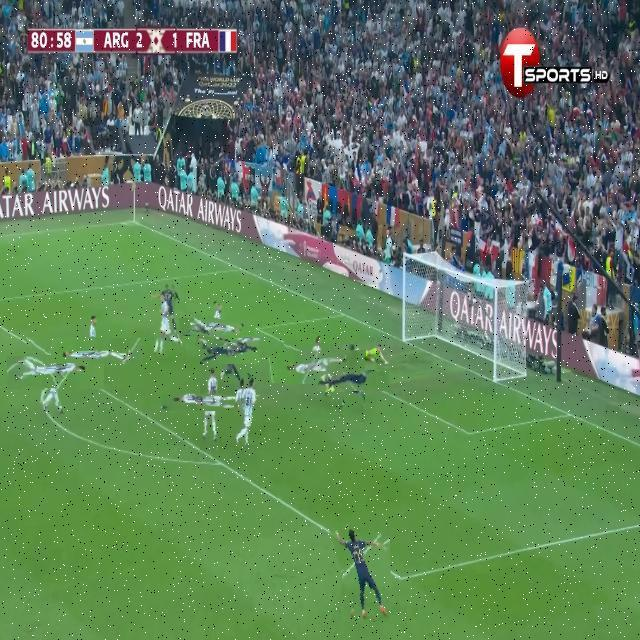goalkeeper: (330, 357, 378, 405)
player: (335, 520, 396, 624), (22, 339, 90, 407), (285, 334, 352, 400), (66, 320, 127, 382), (230, 375, 265, 468), (181, 374, 238, 431), (191, 302, 243, 354), (151, 283, 183, 359), (208, 330, 252, 374)
